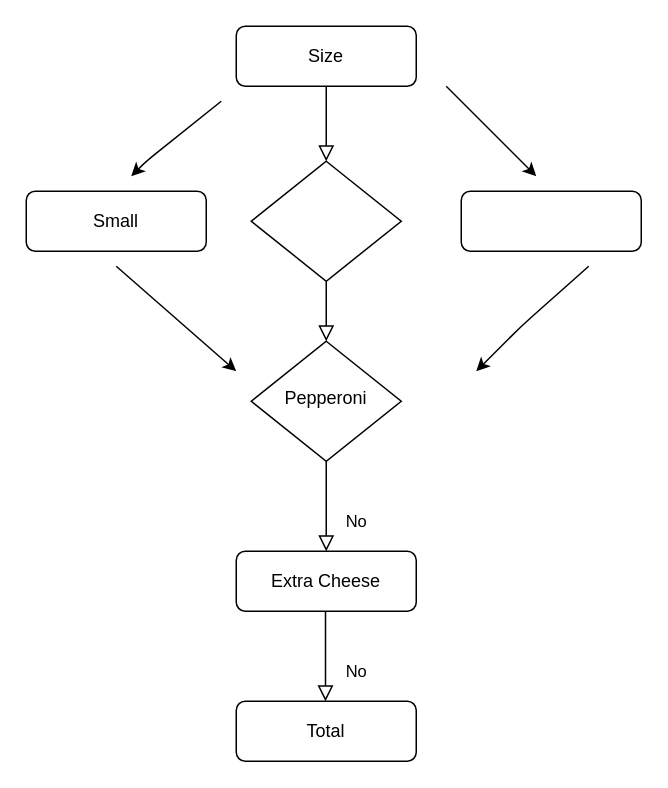
The diagram is 668 pixels wide and 788 high, and some of its shapes have lost their labels. Here are the shapes that lost their labels. From the top down, the centre of each, then its label:
At point (325, 220): "Medium".
At point (550, 220): "Large".
